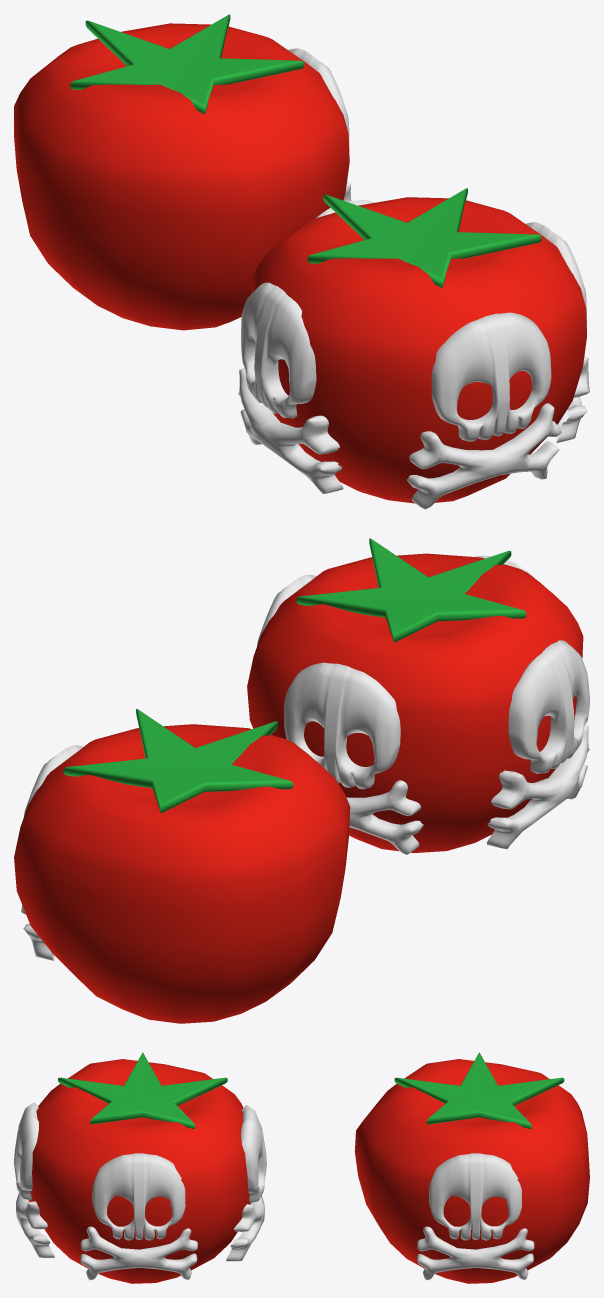
File: P_C4Matoes.fbx
3 renders of one model, top to bottom at view 1: azimuth 30°, elevation 25°; view 2: azimuth 150°, elevation 25°; view 3: azimuth 270°, elevation 25°, orthographic. The views are drawn at different scales.
Parts seen in each view (by area): view 1: P_C4_Var2, P_C4_Var1; view 2: P_C4_Var1, P_C4_Var2; view 3: P_C4_Var2, P_C4_Var1.
Boxes of the visible parts, box(x1,y1,x2,y2) form: P_C4_Var2: box(238, 188, 589, 509); P_C4_Var1: box(14, 14, 351, 330); P_C4_Var1: box(14, 709, 350, 1023); P_C4_Var2: box(247, 538, 589, 854); P_C4_Var2: box(14, 1052, 266, 1283); P_C4_Var1: box(354, 1052, 589, 1283).
Bounding box in the file's own units: 360 × 287 × 820.
